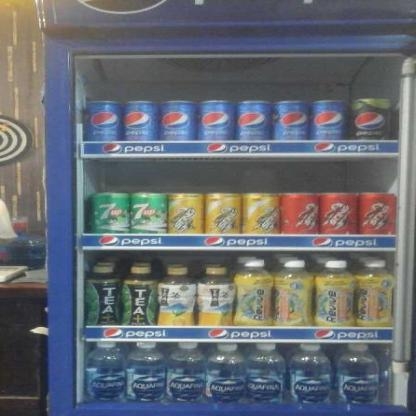7up: (85, 186, 133, 235), (124, 189, 174, 235)
aquafina: (330, 342, 389, 404), (281, 342, 335, 405), (160, 341, 211, 403), (242, 342, 290, 404), (82, 339, 129, 402), (200, 342, 249, 402), (122, 341, 169, 403)
olong-tea: (81, 260, 124, 325), (117, 264, 162, 326)
olong-teaplus: (191, 262, 240, 326), (152, 263, 199, 327)
pepsi-blue: (192, 96, 238, 143), (306, 97, 353, 141), (116, 99, 162, 143), (233, 96, 277, 142), (267, 97, 313, 141), (155, 98, 199, 142), (82, 99, 123, 144)
pepsi-chanhmuoi: (344, 95, 398, 144)
revive-chanhmuoi-chai: (268, 259, 318, 328), (309, 259, 359, 326), (228, 258, 277, 325), (349, 259, 394, 328)
string-red: (272, 190, 324, 236), (315, 191, 362, 237), (352, 188, 396, 235)
string-yellow: (197, 188, 248, 235), (160, 190, 208, 236), (235, 190, 282, 236)
